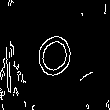O_SW: (30, 24, 80, 86)
